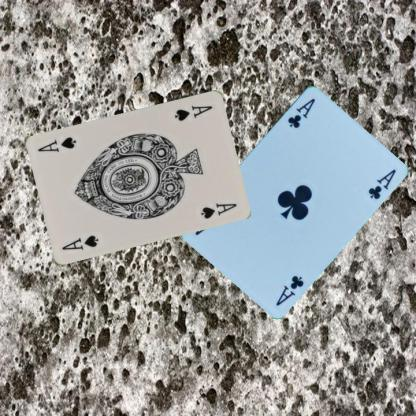Ac: (272, 272, 306, 307), (284, 94, 316, 130)
As: (172, 102, 214, 122), (60, 232, 100, 250)
